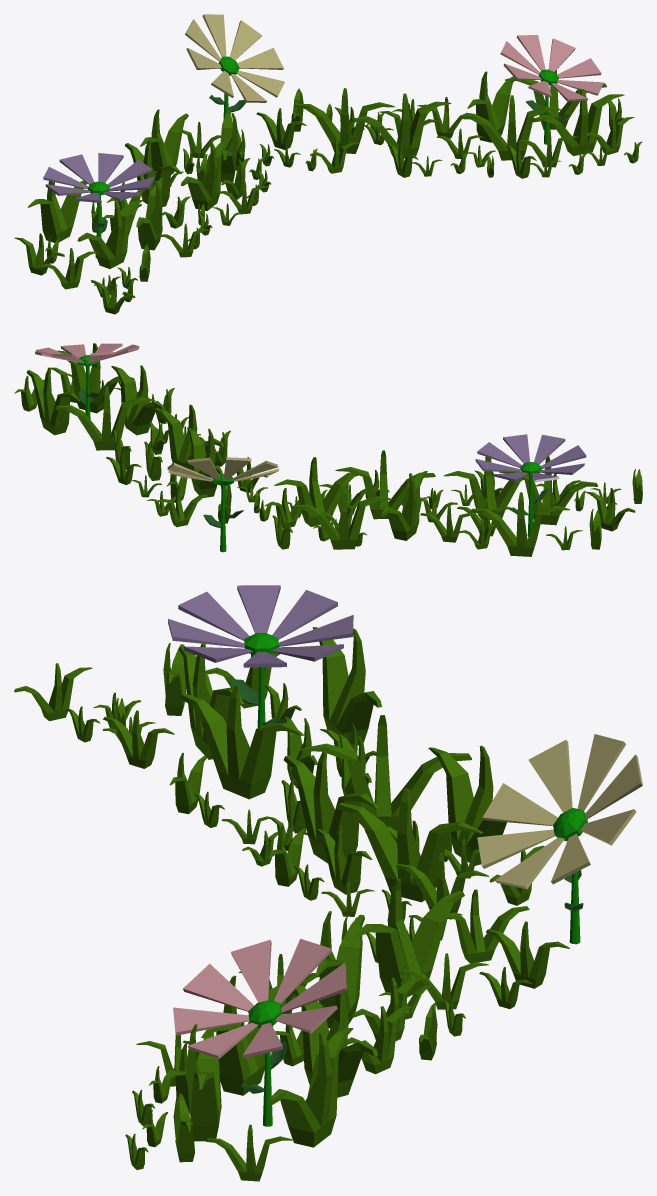
File: hierba_B_C.fbx
The picture shows the model from 3 angles, top to bottom: view 1: azimuth 30°, elevation 25°; view 2: azimuth 150°, elevation 25°; view 3: azimuth 270°, elevation 25°; orthographic projection. The views are drawn at different scales.
Visible parts, largest first — view 1: Hierba_B_C; view 2: Hierba_B_C; view 3: Hierba_B_C.
Boxes of the visible parts, x1,y1,x2,y2 form: Hierba_B_C: [14, 14, 642, 314]; Hierba_B_C: [14, 343, 642, 556]; Hierba_B_C: [14, 585, 642, 1181].
Bounding box in the file's own units: 131 × 22.89 × 70.25.
